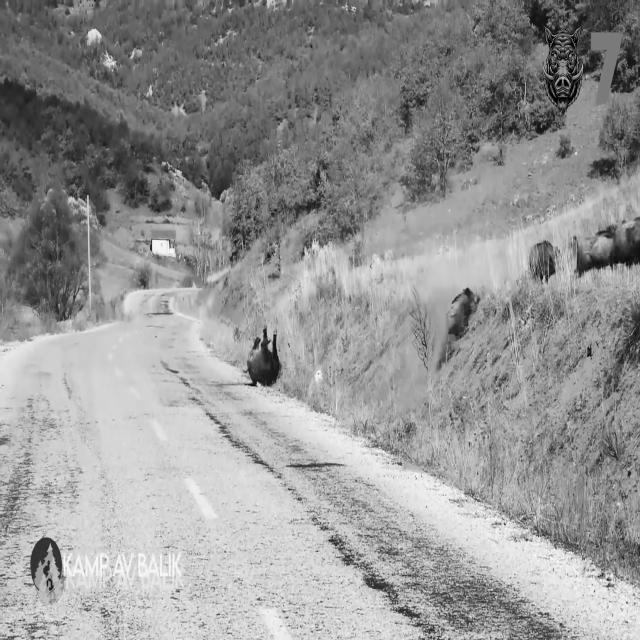boar: (578, 217, 640, 273), (247, 327, 280, 385), (448, 287, 476, 336), (530, 239, 556, 281)
